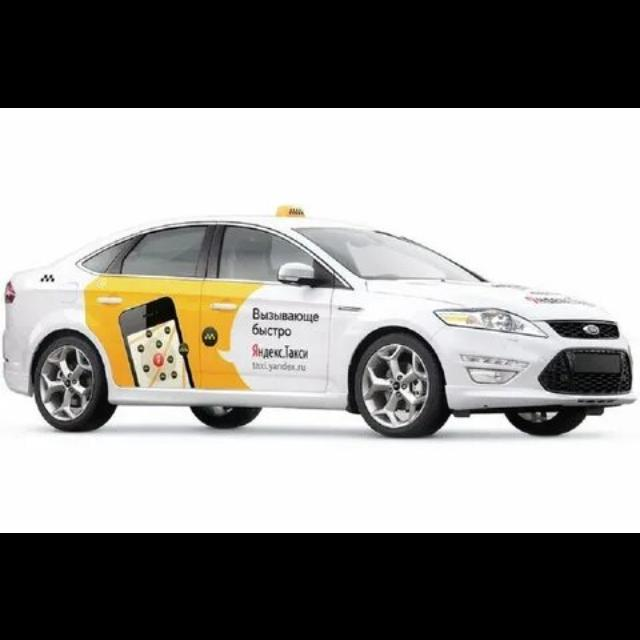taxi: (3, 203, 637, 437)
